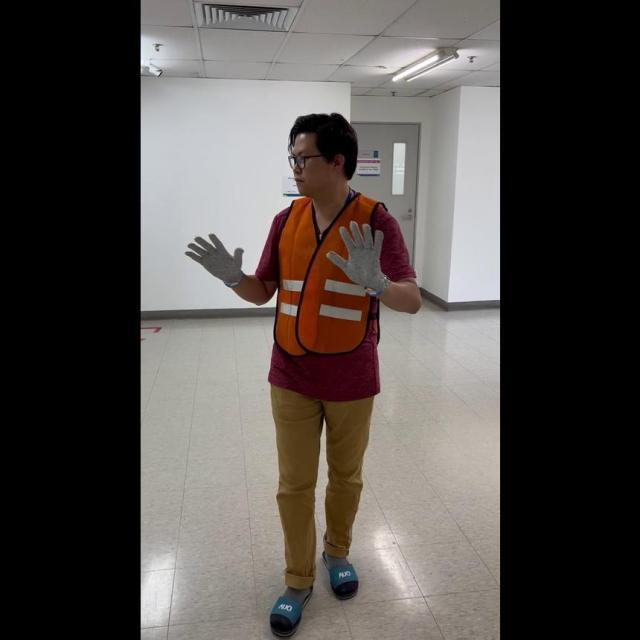gloved_hand: (326, 215, 389, 297), (184, 227, 245, 286)
